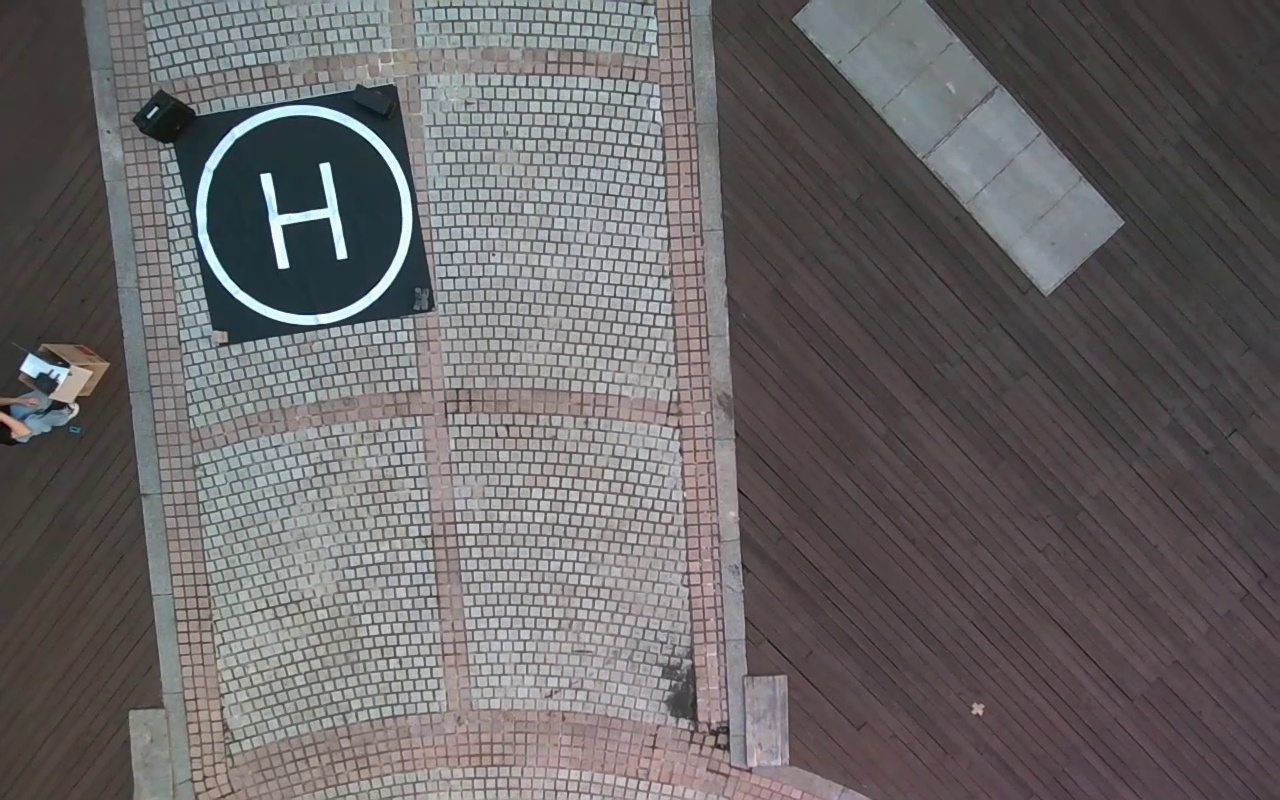H: (258, 161, 350, 270)
heliport: (193, 105, 415, 325)
